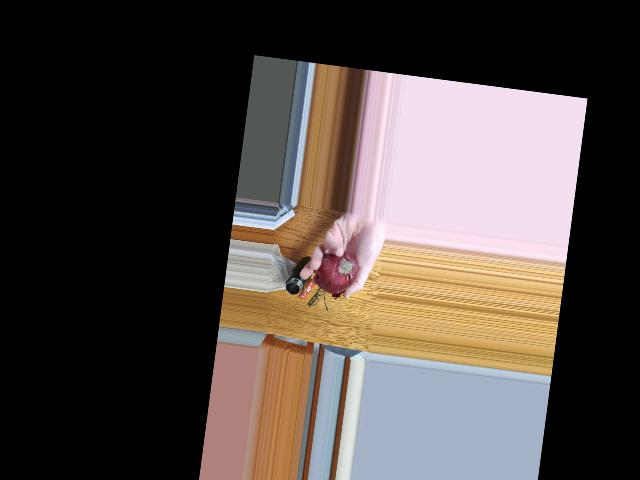onion: (316, 248, 359, 292)
